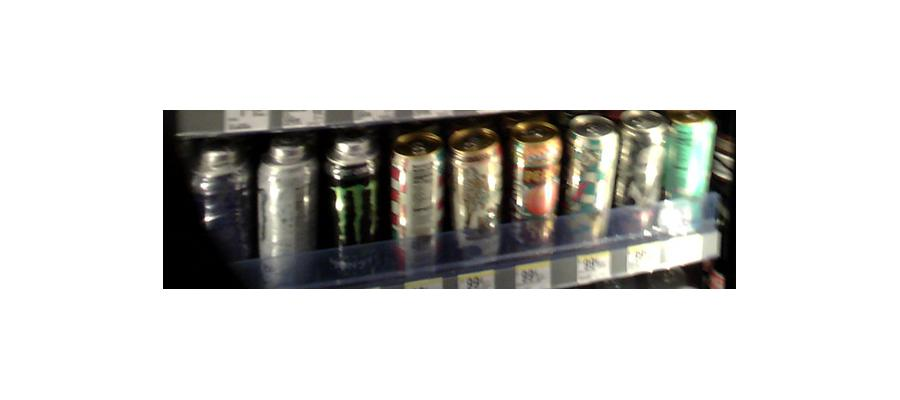bottle: (258, 140, 317, 286), (323, 139, 383, 270), (447, 131, 502, 268), (389, 135, 444, 272), (658, 112, 717, 238), (198, 142, 253, 276), (506, 124, 561, 256), (565, 118, 619, 248), (625, 112, 667, 243)
